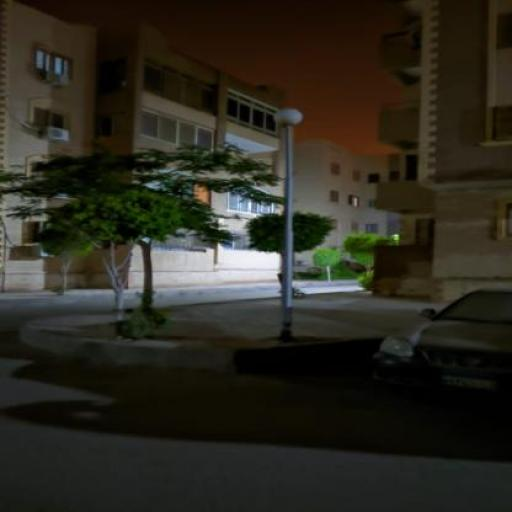street light: (271, 107, 303, 339)
